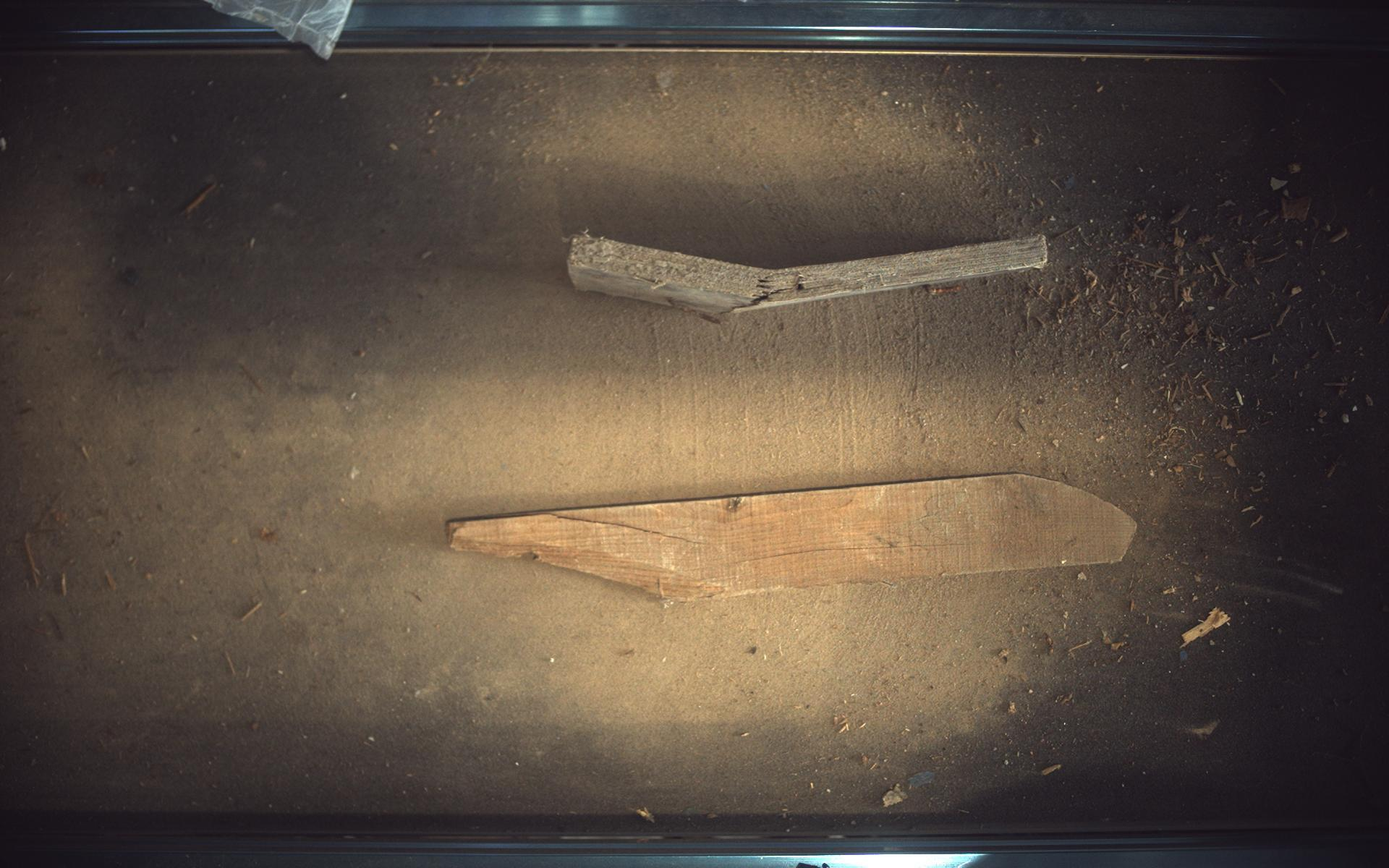wood: (449, 474, 1139, 601), (569, 233, 1050, 318)
